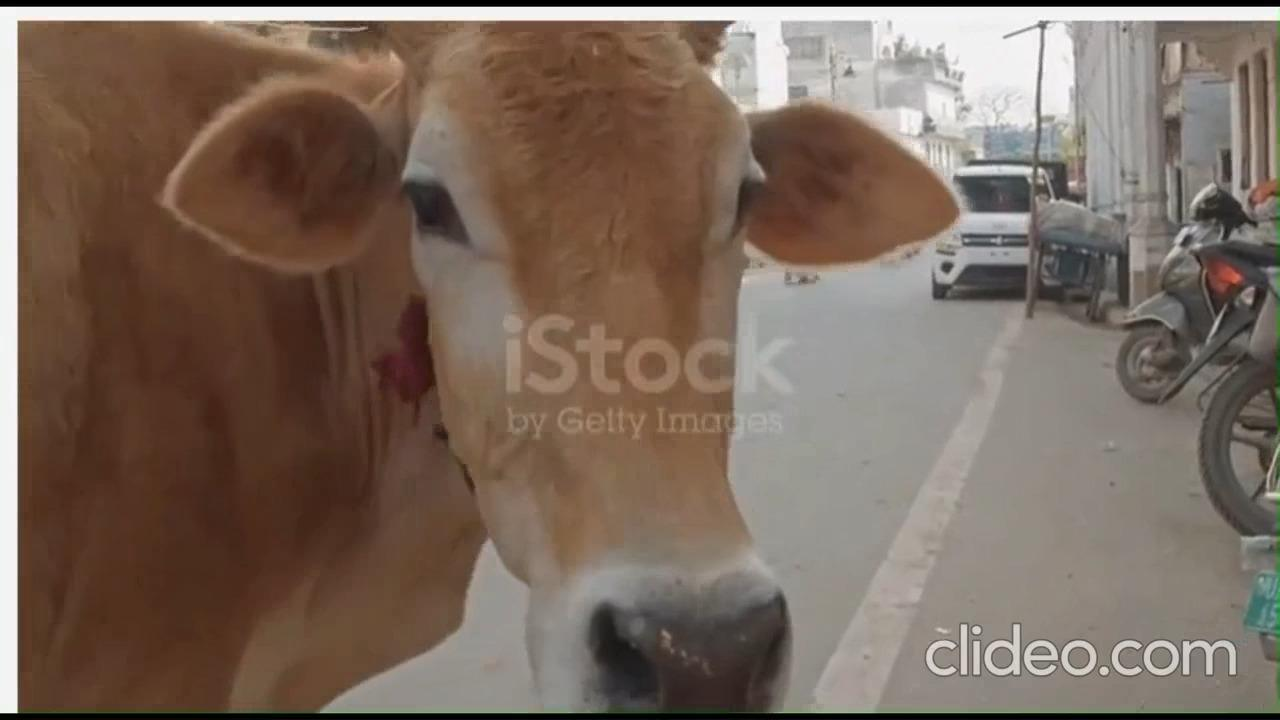Cow: (17, 24, 970, 702)
